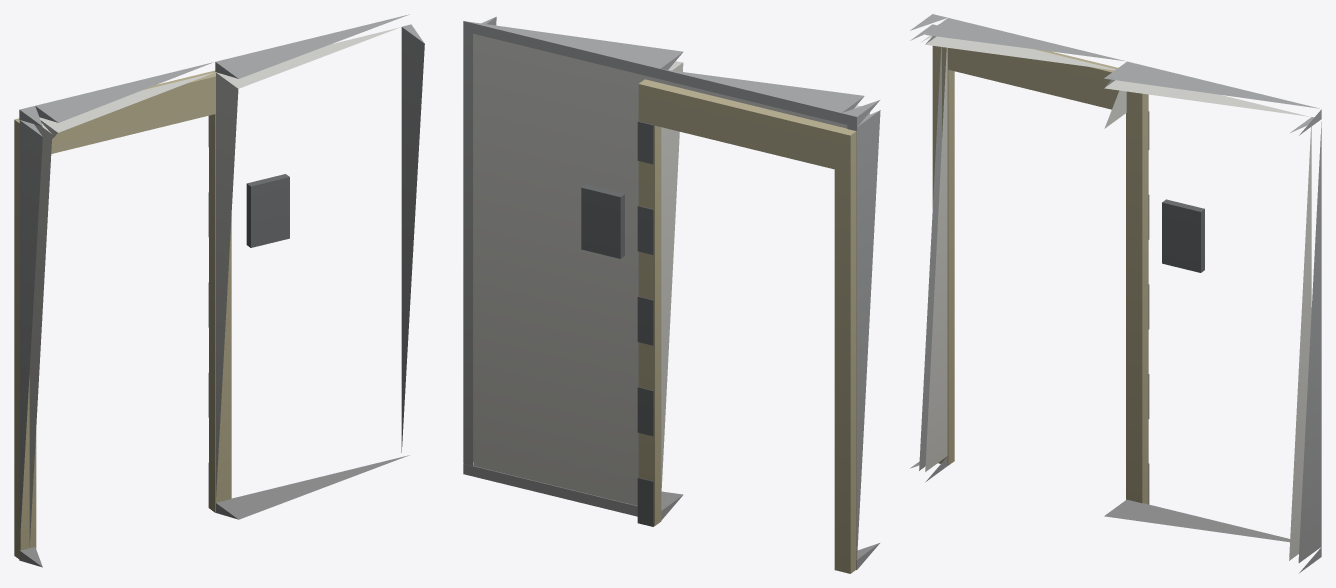
The model's file is airlockWall_steel_meshin.glb.
The picture shows the model from 3 angles, left to right: view 1: azimuth 30°, elevation 25°; view 2: azimuth 150°, elevation 25°; view 3: azimuth 330°, elevation 25°; orthographic projection.
Parts seen in each view (by area): view 1: airlockWall_steel_meshin; view 2: airlockWall_steel_meshin; view 3: airlockWall_steel_meshin.
Part boxes in pixels (x1,y1,x2,y2): airlockWall_steel_meshin: (14, 14, 424, 567); airlockWall_steel_meshin: (463, 16, 880, 573); airlockWall_steel_meshin: (910, 14, 1321, 573).
Size of the model in its own units: 2 by 2.2 by 0.267.
